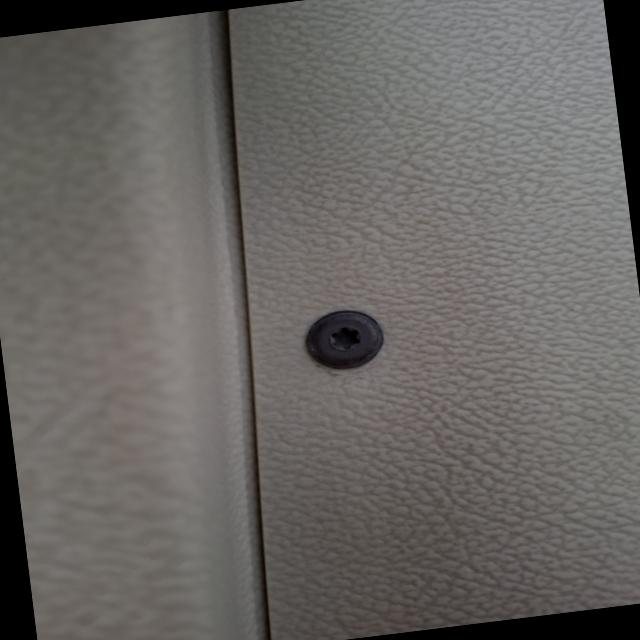Torx: (298, 305, 384, 379)
